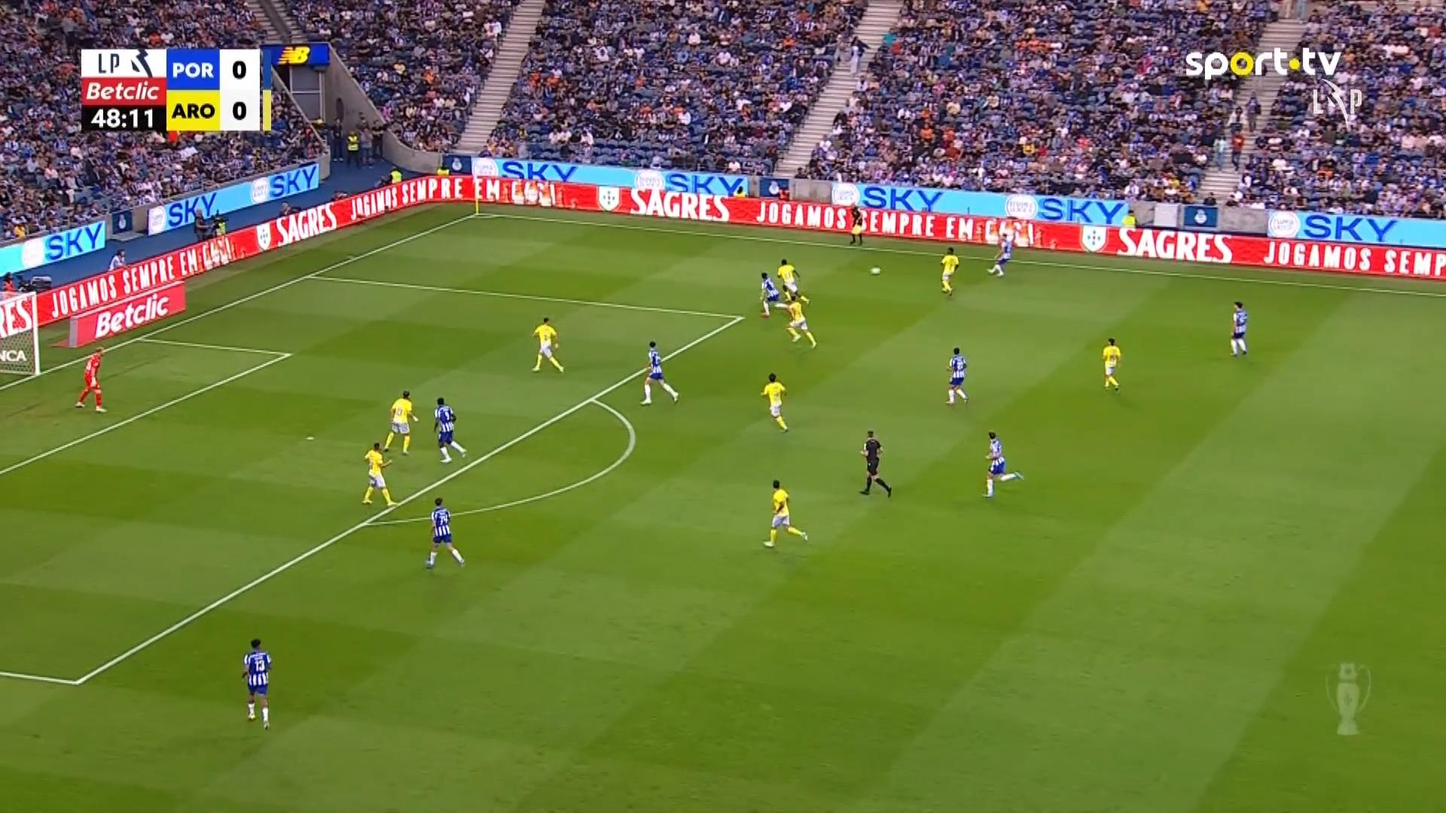ball: (870, 266, 880, 275)
goalkeeper: (74, 346, 107, 413)
player: (762, 479, 808, 549), (424, 496, 465, 568), (241, 637, 273, 729), (981, 431, 1023, 498), (639, 340, 679, 405), (381, 389, 418, 455), (361, 441, 396, 507), (432, 396, 466, 463), (781, 291, 817, 348), (531, 316, 563, 373), (760, 372, 789, 431), (987, 220, 1016, 276), (944, 346, 968, 405), (1229, 300, 1249, 356), (1101, 336, 1121, 390), (776, 257, 800, 301), (939, 245, 959, 296), (758, 271, 780, 317)
referee: (859, 428, 892, 498), (848, 203, 865, 245)
